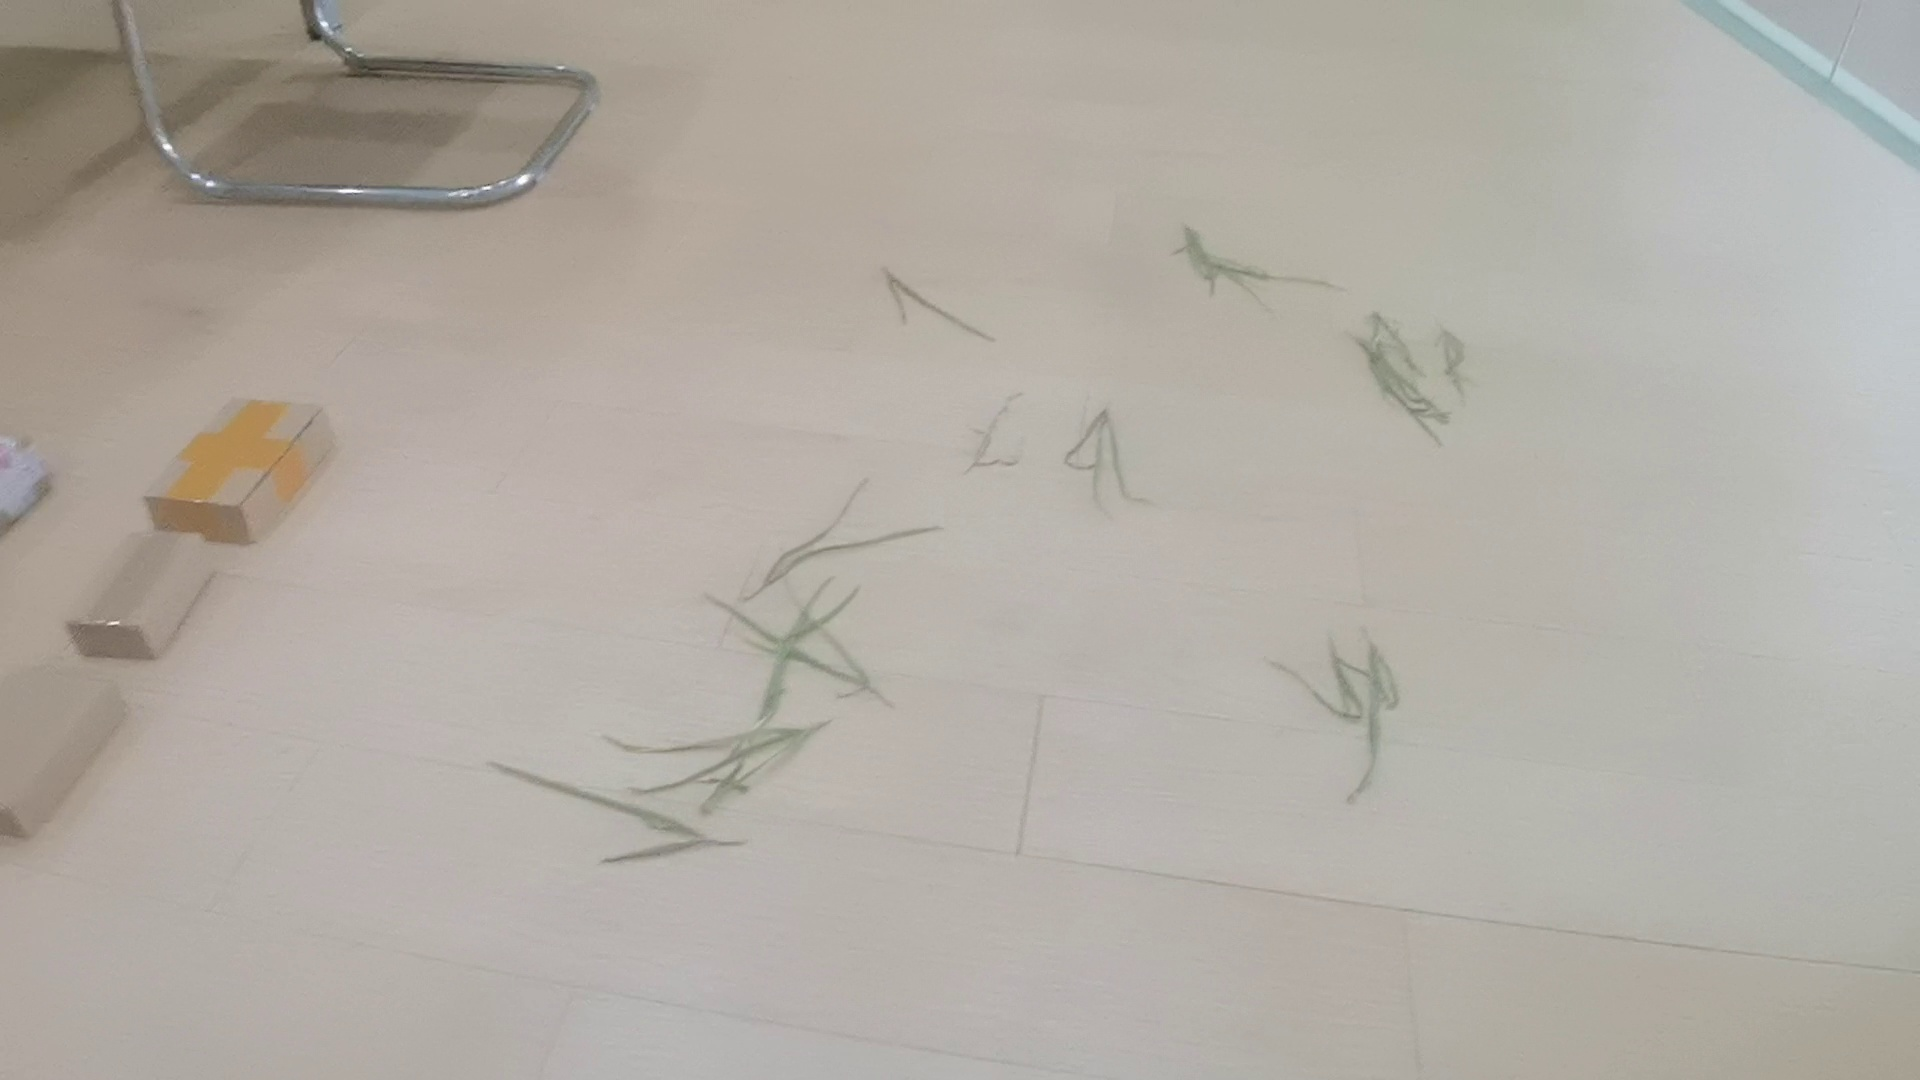chives: (538, 477, 963, 928), (1267, 567, 1460, 820), (1338, 305, 1530, 436), (1153, 206, 1308, 313)
